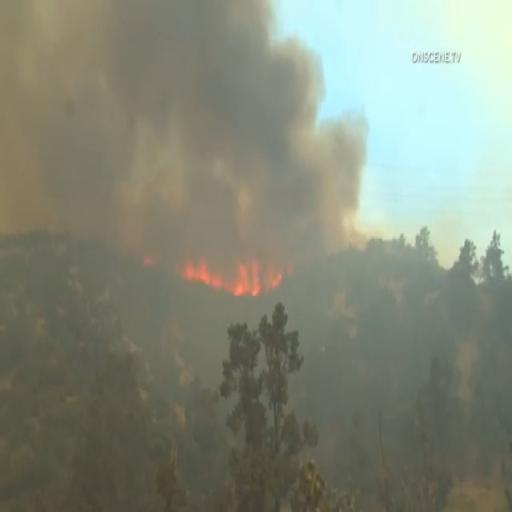fire: (187, 252, 286, 289)
smoke: (6, 2, 380, 170)
